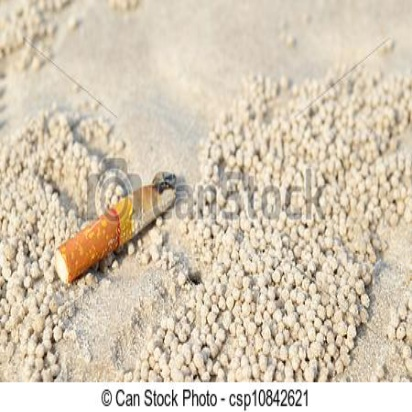cigarette: (48, 166, 185, 285)
